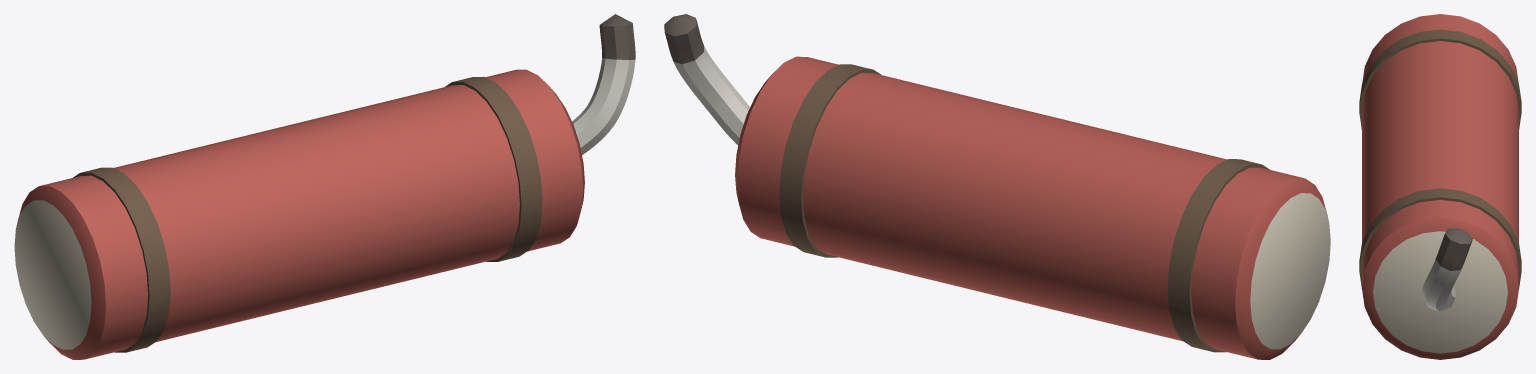
File: dynamite_b_stick_red.glb
The picture shows the model from 3 angles, left to right: view 1: azimuth 30°, elevation 25°; view 2: azimuth 150°, elevation 25°; view 3: azimuth 270°, elevation 25°; orthographic projection. The views are drawn at different scales.
Visible parts, largest first — view 1: Dynamite; view 2: Dynamite; view 3: Dynamite.
Boxes of the visible parts, x1=… form: Dynamite: x1=14, y1=14, x2=635, y2=359; Dynamite: x1=664, y1=14, x2=1330, y2=359; Dynamite: x1=1359, y1=14, x2=1521, y2=359.
Bounding box in the file's own units: 0.6437 × 0.2051 × 0.176.
